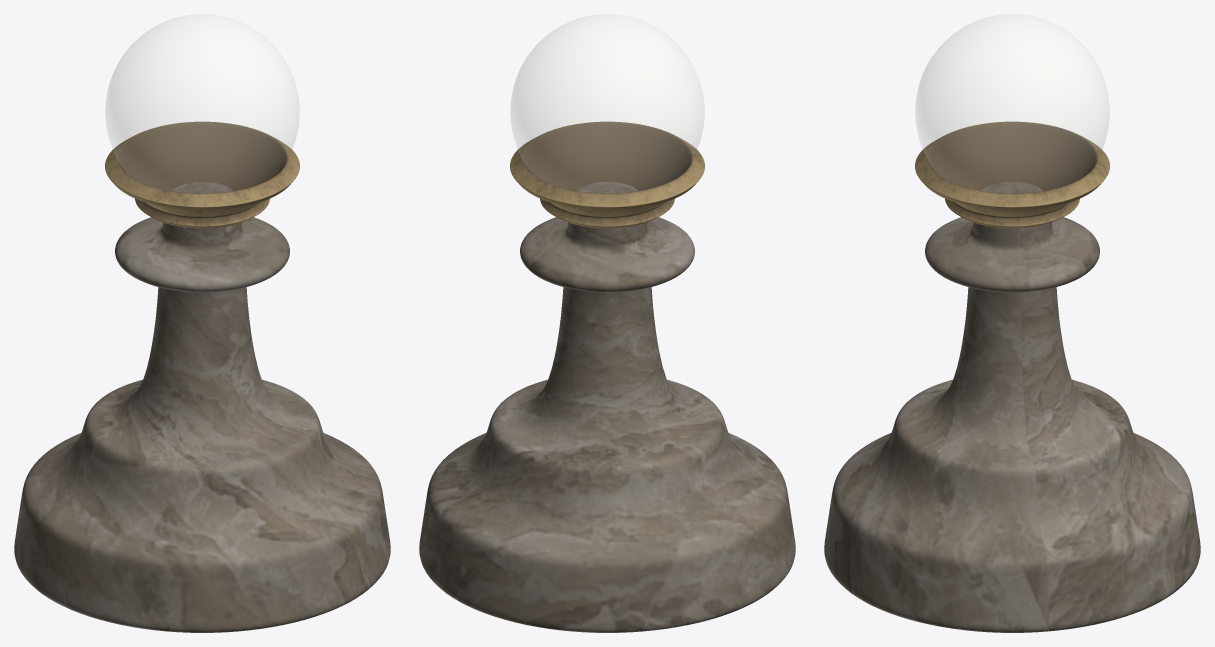
Rendered from W_Pawn.glb.
3 renders of one model, left to right at view 1: azimuth 30°, elevation 25°; view 2: azimuth 150°, elevation 25°; view 3: azimuth 270°, elevation 25°, orthographic.
Visible parts, largest first — view 1: Pawn_Body_W1, Pawn_Top_W1; view 2: Pawn_Body_W1, Pawn_Top_W1; view 3: Pawn_Body_W1, Pawn_Top_W1.
Boxes of the visible parts, left/top/right/bottom form: Pawn_Body_W1: left=14, top=121, right=390, bottom=632; Pawn_Top_W1: left=105, top=14, right=299, bottom=193; Pawn_Body_W1: left=419, top=121, right=795, bottom=632; Pawn_Top_W1: left=510, top=14, right=704, bottom=193; Pawn_Body_W1: left=824, top=121, right=1200, bottom=632; Pawn_Top_W1: left=915, top=14, right=1109, bottom=193.
Bounding box in the file's own units: 0.0421 × 0.0664 × 0.0421.
2 materials, 1 textured.
